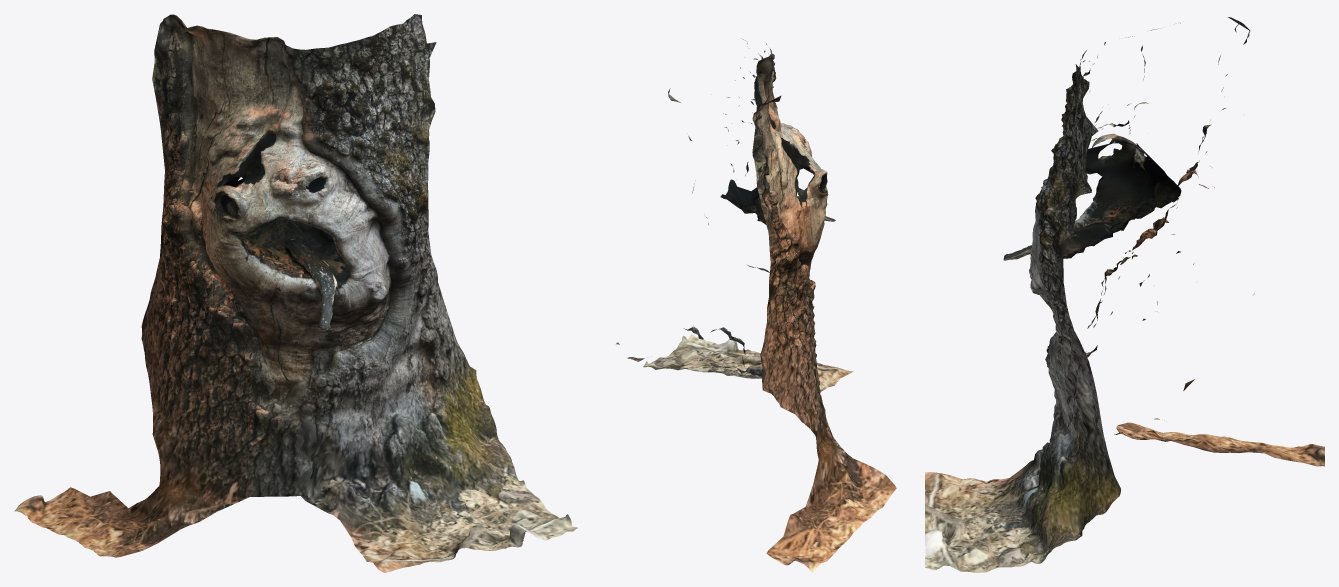
Rendered from monstree-sample.glb.
3 renders of one model, left to right at view 1: azimuth 30°, elevation 25°; view 2: azimuth 150°, elevation 25°; view 3: azimuth 270°, elevation 25°, orthographic. The views are drawn at different scales.
Visible parts, largest first — view 1: model; view 2: model; view 3: model.
Boxes of the visible parts, bbox=[...] form: model: bbox=[14, 14, 577, 572]; model: bbox=[616, 38, 896, 572]; model: bbox=[925, 17, 1324, 572].
Size of the model in its own units: 1.57 by 2.19 by 1.59.
1 material, 1 textured.
